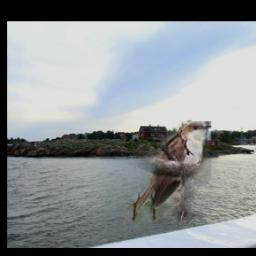Cuckoo: (120, 121, 212, 224)
